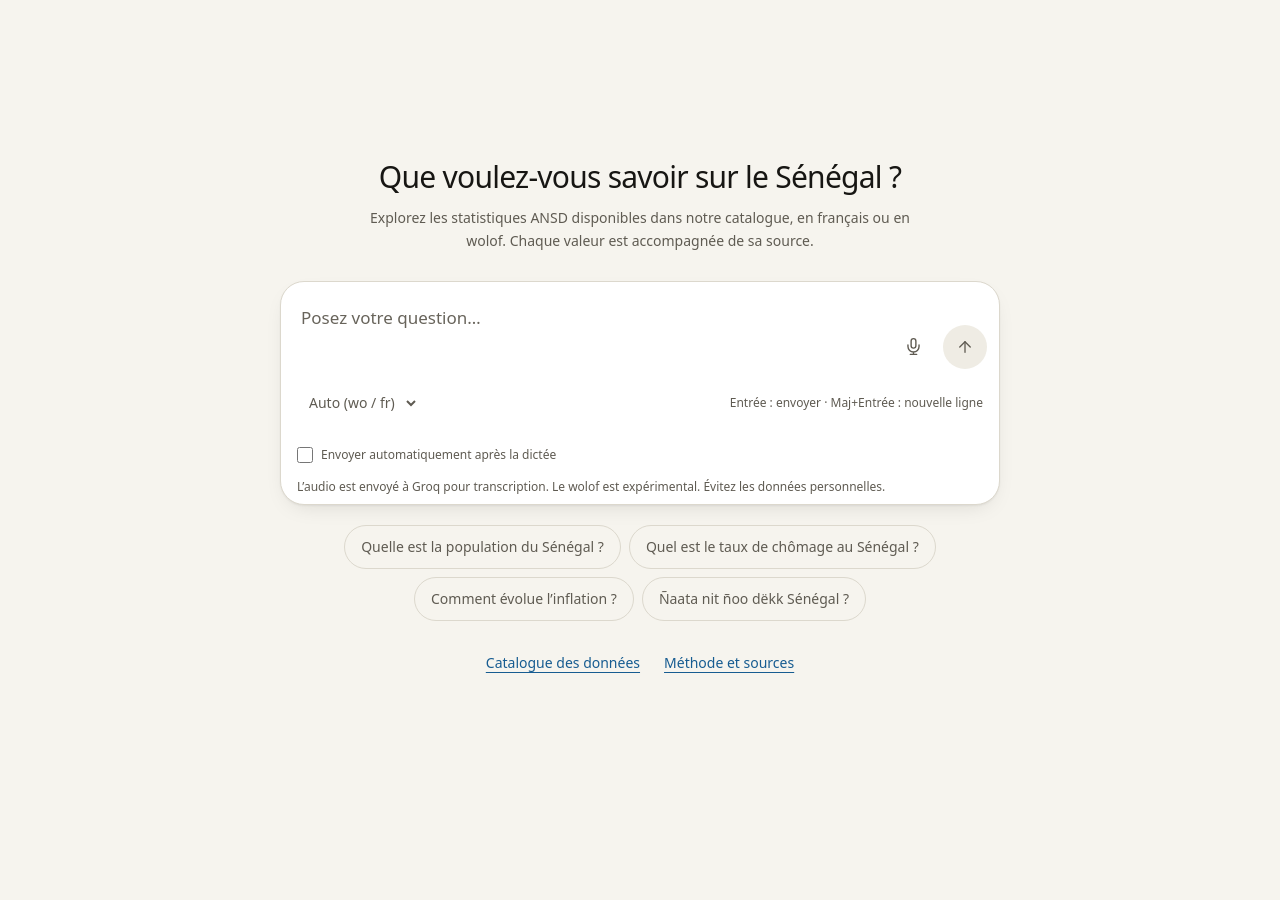
Test: shows no-data suggestions and transport errors without losing the conversation
Type "Question sans donnée" into the text box at (592,331), box [301,294,883,368]
Then press Enter
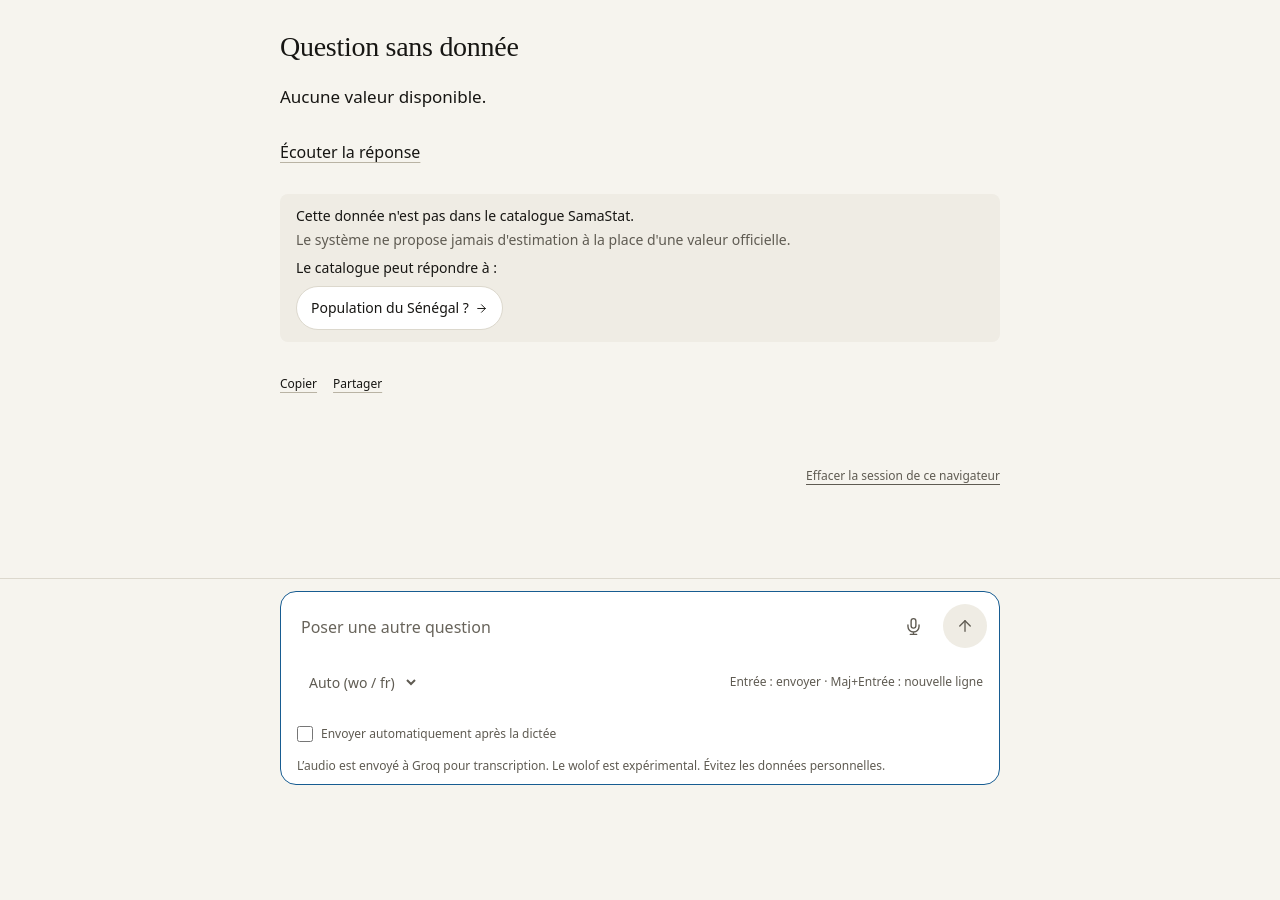
Result: the text "Aucune valeur disponible." is shown at [280,85,486,108]
Click the button "Population du Sénégal ?" at (399,308), box [296,286,503,330]
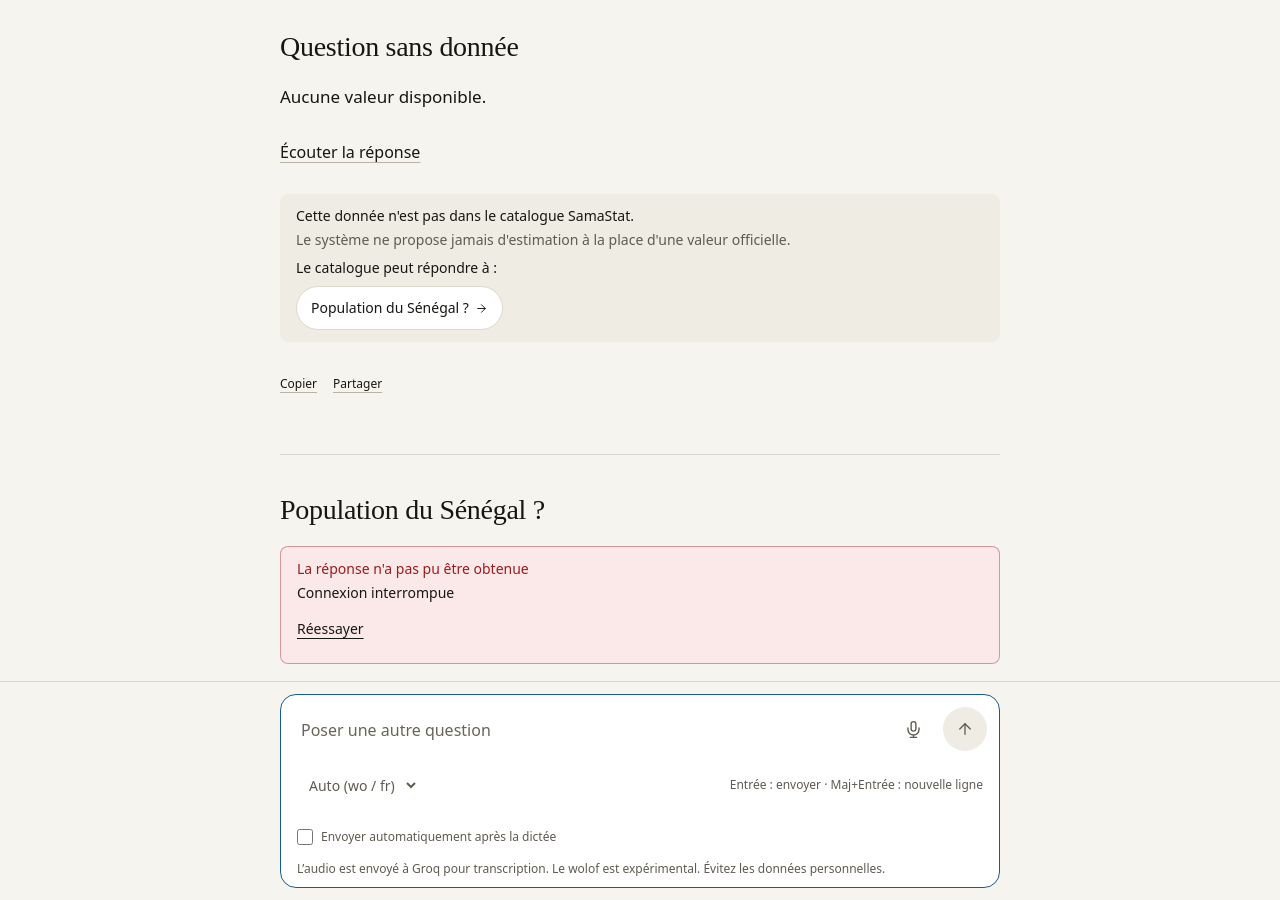
Result: the heading "Question sans donnée" is shown at [280,31,519,62]
Result: the text "Connexion interrompue" is shown at [297,583,454,602]
Click the button "Réessayer" at (330,629), box [297,607,364,651]
(page scrolled)
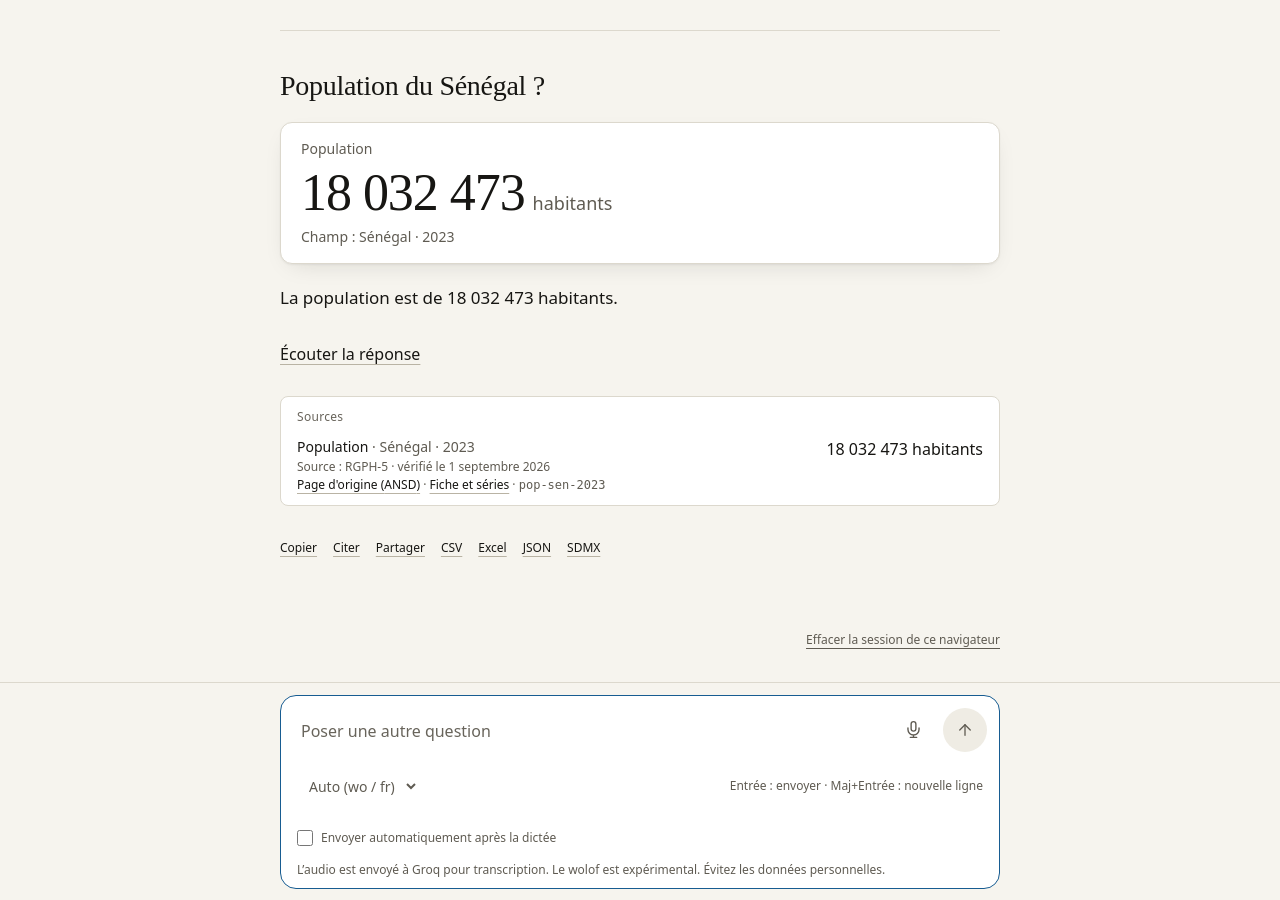
Result: the element named "Sources des valeurs" is shown at [280,396,1000,506]
